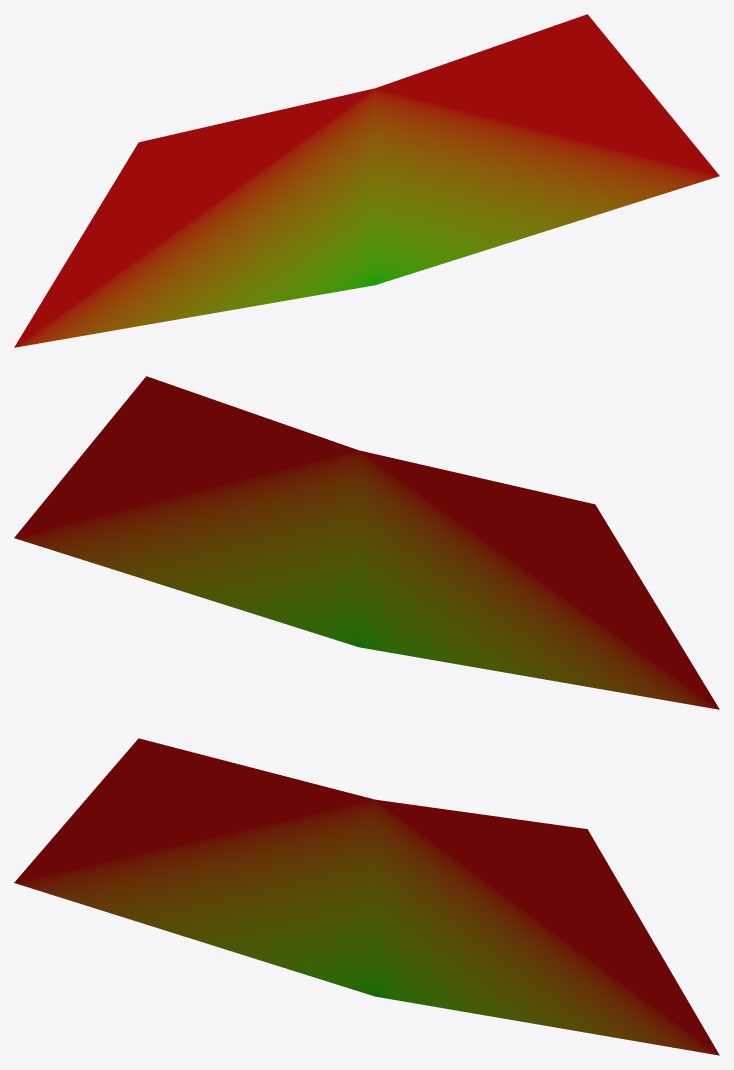
The model's file is Var7_LOD3.fbx.
3 renders of one model, top to bottom at view 1: azimuth 30°, elevation 25°; view 2: azimuth 150°, elevation 25°; view 3: azimuth 330°, elevation 25°, orthographic.
Visible parts, largest first — view 1: _0opj_Var7_LOD3; view 2: _0opj_Var7_LOD3; view 3: _0opj_Var7_LOD3.
Boxes of the visible parts, left/top/right/bottom form: _0opj_Var7_LOD3: left=14, top=14, right=719, bottom=347; _0opj_Var7_LOD3: left=14, top=376, right=719, bottom=709; _0opj_Var7_LOD3: left=14, top=738, right=719, bottom=1055.
Bounding box in the file's own units: 40.48 × 12.01 × 1.43e-06.
